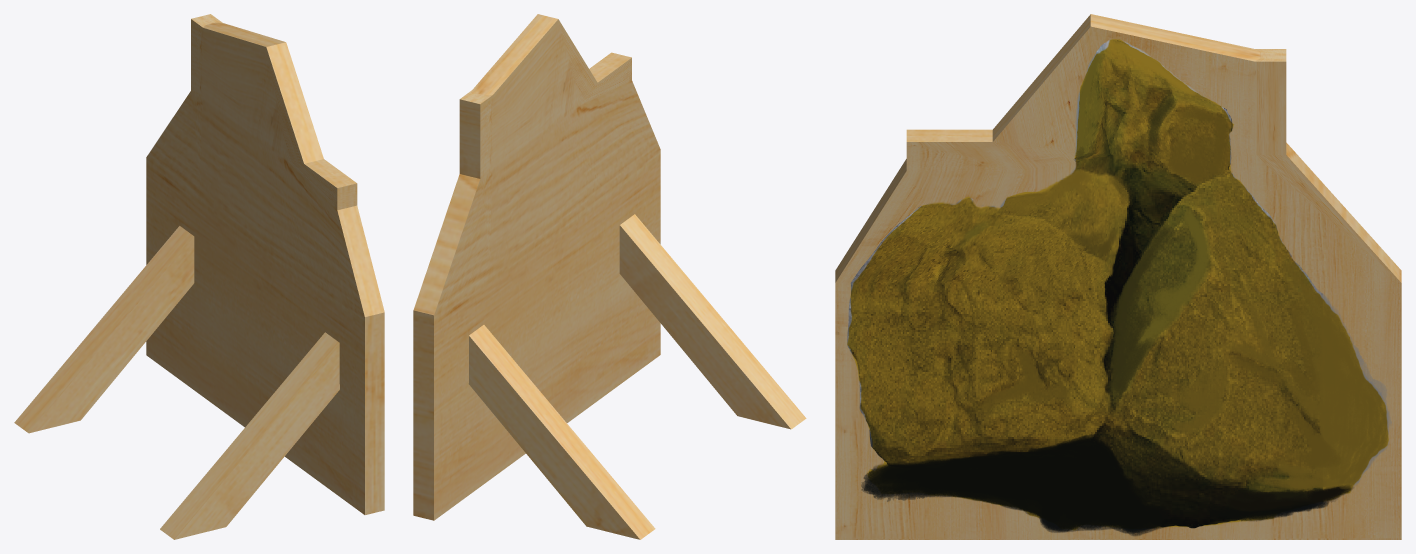
Rendered from space_boulder_cutout.fbx.
3 views of the same model, side by side, from view 1: azimuth 30°, elevation 25°; view 2: azimuth 150°, elevation 25°; view 3: azimuth 270°, elevation 25° (orthographic). The views are drawn at different scales.
Visible parts, largest first — view 1: Cube; view 2: Cube; view 3: Cube.
Part boxes in pixels (bbox=[...]): Cube: bbox=[14, 14, 384, 539]; Cube: bbox=[413, 14, 806, 539]; Cube: bbox=[835, 14, 1401, 539].
Size of the model in its own units: 0.9805 by 2.01 by 2.
